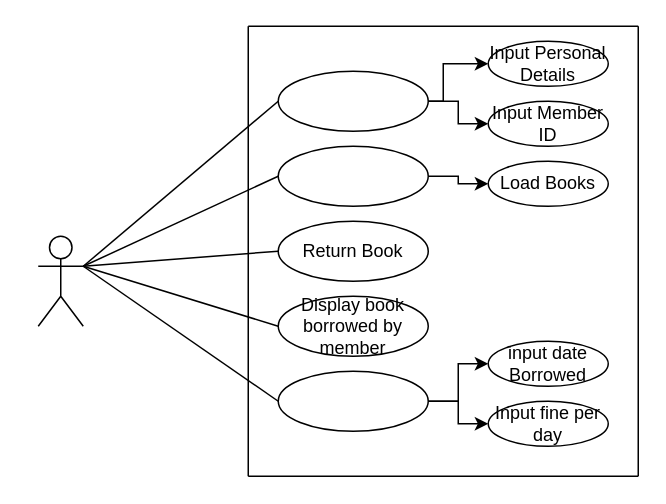
This 666x504 diagram has some shape labels left out. The shapes that lost their labels are listed below. From the top down, each one's box as (x1, y1, x2, y2) in pixels, then its label:
(277, 70, 428, 131): Add member
(277, 145, 428, 206): Issue Book
(37, 235, 83, 326): Librarian
(277, 370, 428, 431): Calculate fine
